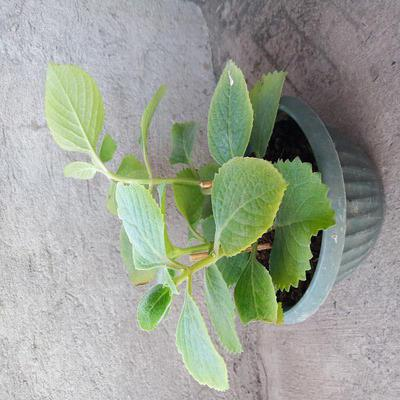Oregano: (35, 74, 333, 348)
